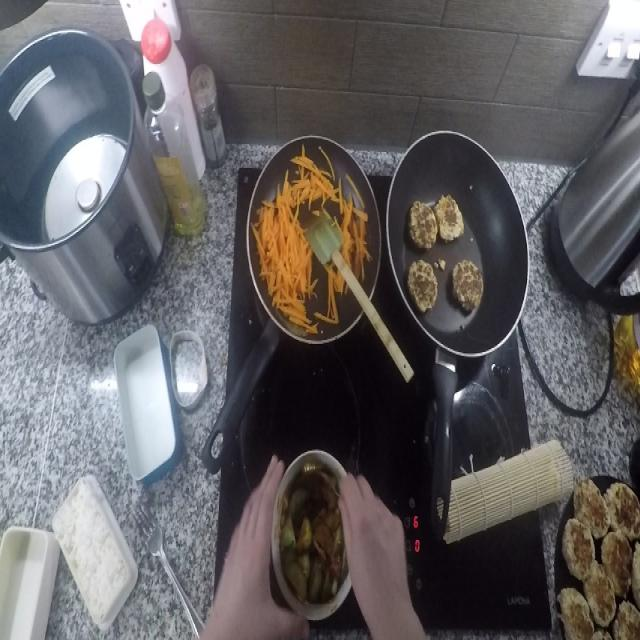fork: (129, 497, 210, 635)
kettle: (541, 77, 640, 346)
left hand: (225, 453, 289, 640)
oil: (142, 71, 207, 239)
pan: (386, 115, 530, 549)
right hand: (339, 470, 412, 640)
spatula: (307, 205, 414, 397)
tuna patty: (569, 478, 639, 640), (410, 187, 480, 310)
